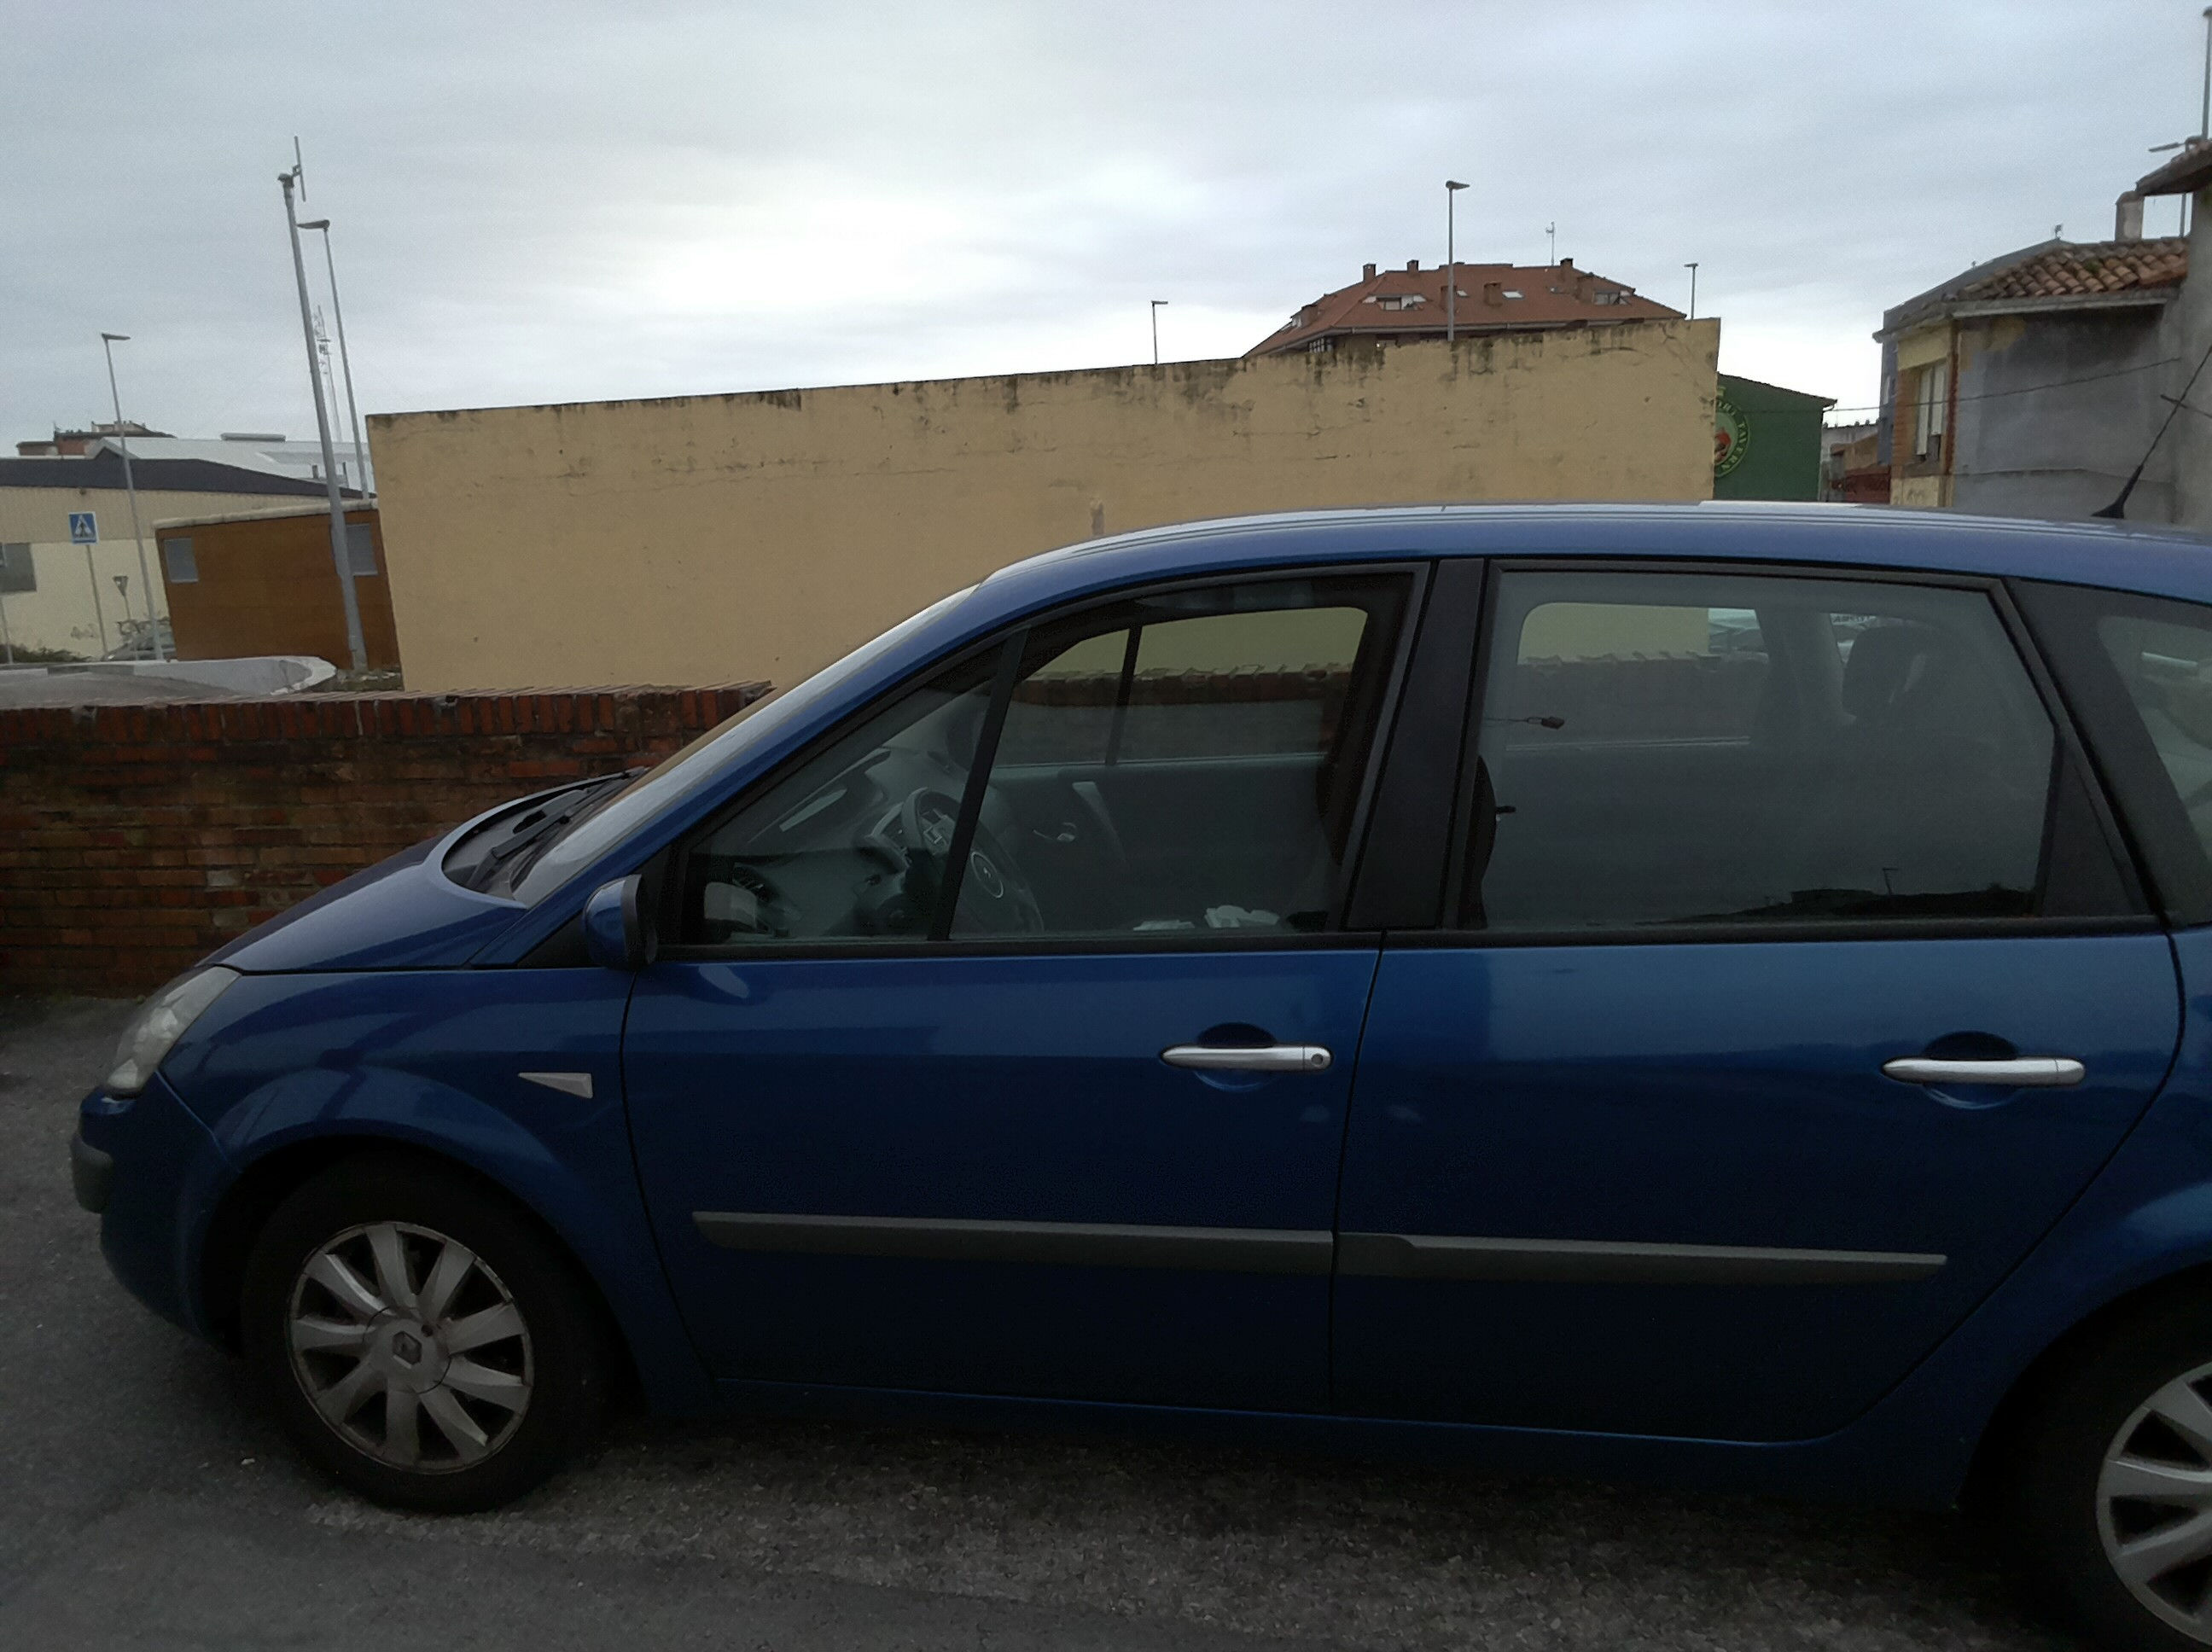Muro: (371, 399, 1735, 675), (7, 705, 753, 973)
Vehiculo: (80, 500, 2210, 1652)
